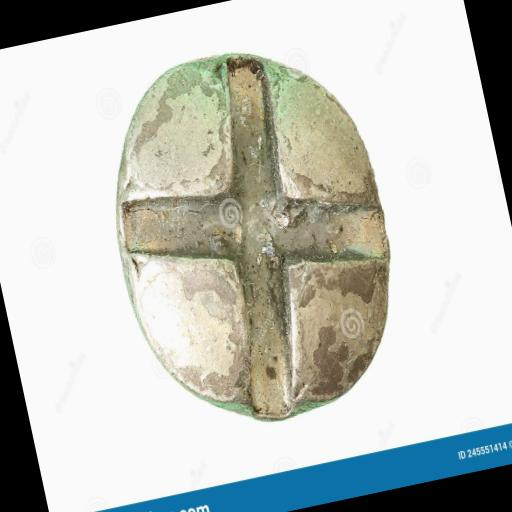Phillips: (82, 22, 424, 447)
